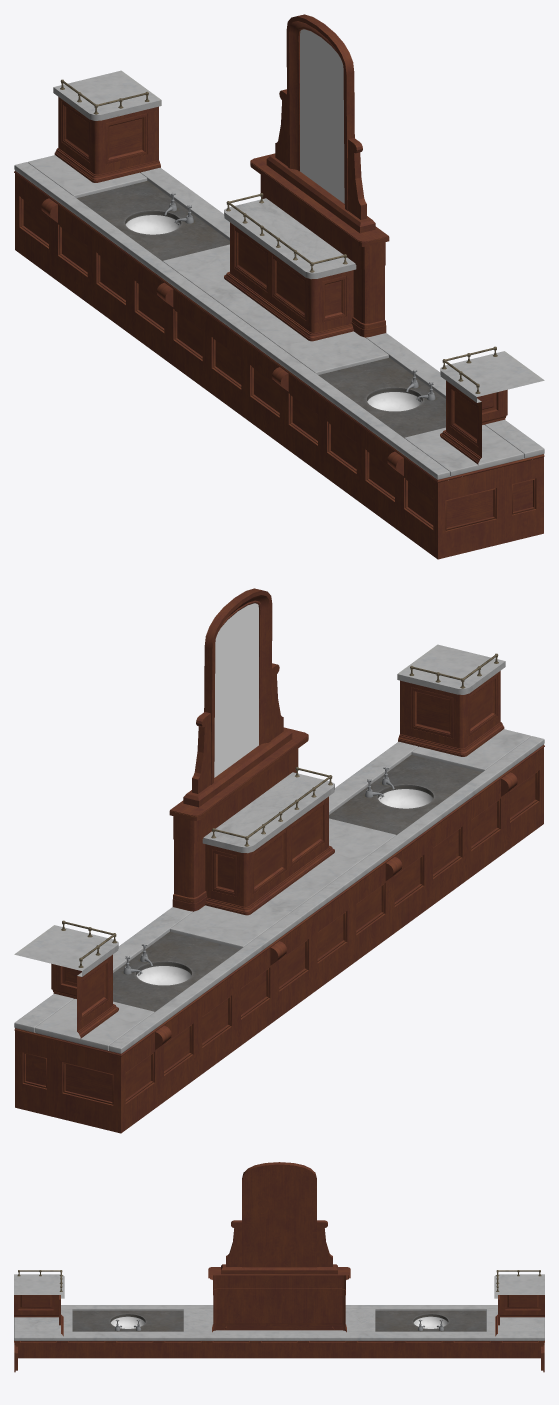
The model's file is SM_Washstand01A.fbx.
3 renders of one model, top to bottom at view 1: azimuth 30°, elevation 25°; view 2: azimuth 150°, elevation 25°; view 3: azimuth 270°, elevation 25°, orthographic. The views are drawn at different scales.
Visible parts, largest first — view 1: SM_Washstand01A; view 2: SM_Washstand01A; view 3: SM_Washstand01A.
Boxes of the visible parts, x1,y1,x2,y2 form: SM_Washstand01A: (14,14,544,559); SM_Washstand01A: (14,588,544,1133); SM_Washstand01A: (14,1162,544,1372).
Bounding box in the file's own units: 80.31 × 514 × 239.
